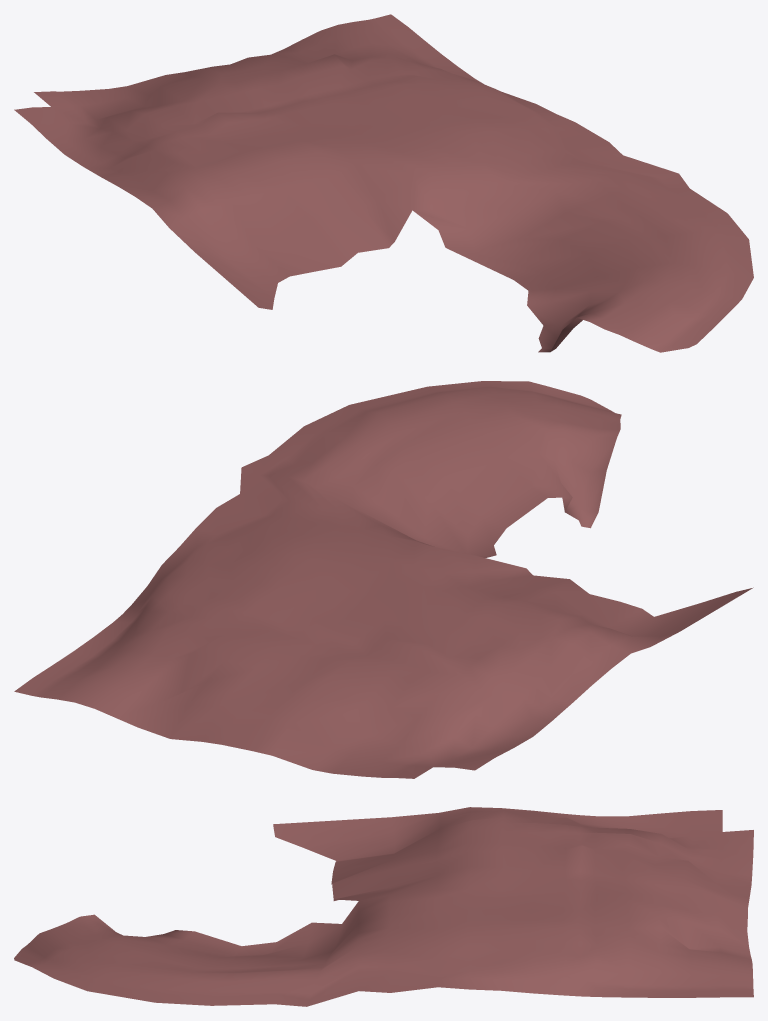
File: dfh;leiseur cdhfjasdgfasdfasdhfjsdhfksdhfksdfs.fbx
3 renders of one model, top to bottom at view 1: azimuth 30°, elevation 25°; view 2: azimuth 150°, elevation 25°; view 3: azimuth 270°, elevation 25°, orthographic. The views are drawn at different scales.
Visible parts, largest first — view 1: terrain_beach_round_uv_01; view 2: terrain_beach_round_uv_01; view 3: terrain_beach_round_uv_01.
Part boxes in pixels (bbox=[...]): terrain_beach_round_uv_01: bbox=[14, 14, 753, 352]; terrain_beach_round_uv_01: bbox=[14, 381, 753, 778]; terrain_beach_round_uv_01: bbox=[14, 807, 753, 1006].
Size of the model in its own units: 274 by 51.85 by 440.
